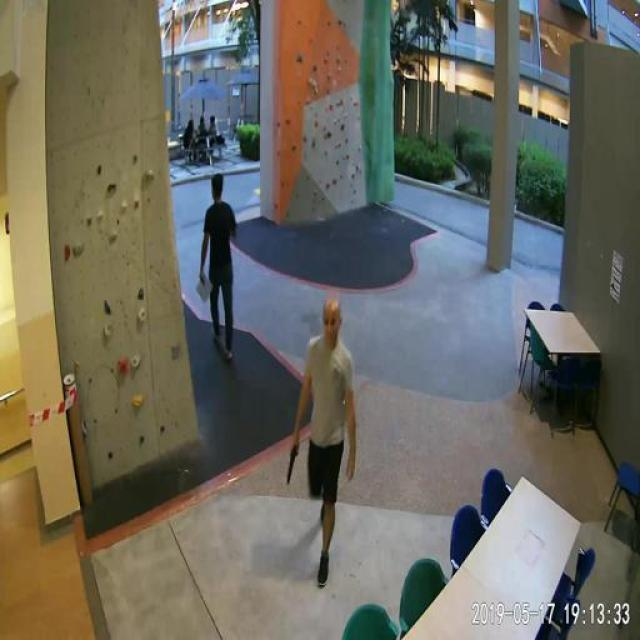Gun: (276, 435, 306, 502)
